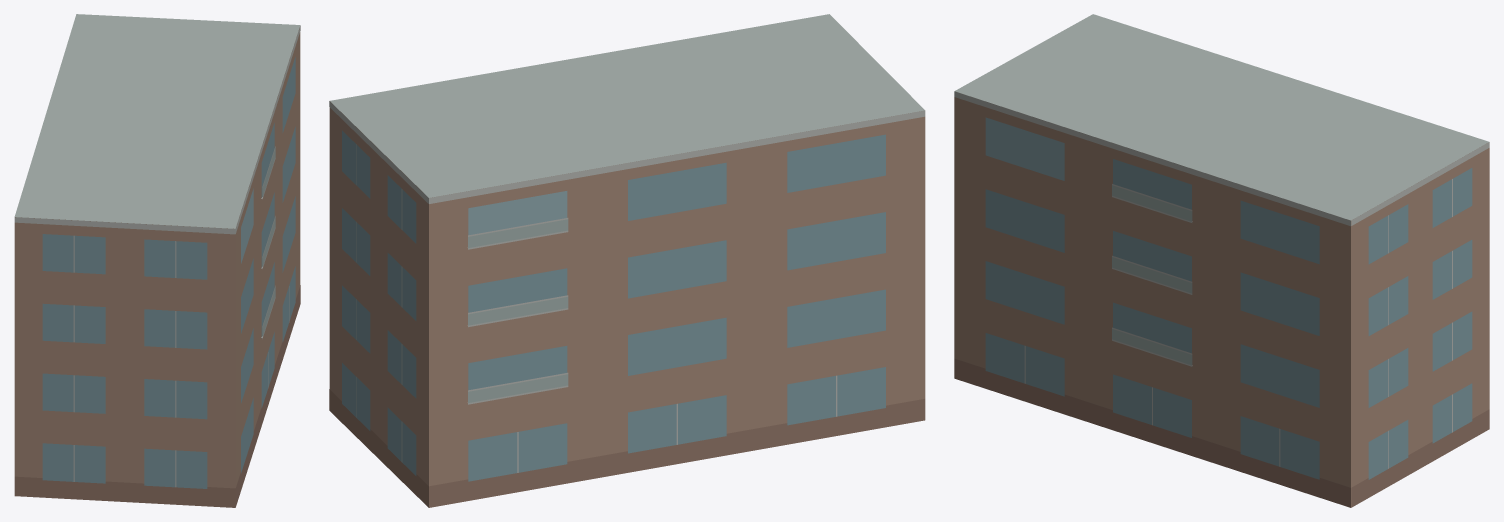
The model's file is survey-upis-32767509.glb.
3 views of the same model, side by side, from view 1: azimuth 30°, elevation 25°; view 2: azimuth 150°, elevation 25°; view 3: azimuth 270°, elevation 25° (orthographic). The views are drawn at different scales.
Parts seen in each view (by area): view 1: survey-upis-32767509.tmp; view 2: survey-upis-32767509.tmp; view 3: survey-upis-32767509.tmp.
Part boxes in pixels (bbox=[...]): survey-upis-32767509.tmp: bbox=[14, 14, 300, 507]; survey-upis-32767509.tmp: bbox=[329, 14, 925, 507]; survey-upis-32767509.tmp: bbox=[954, 14, 1489, 507].
Size of the model in its own units: 18.82 by 12.2 by 20.61.
